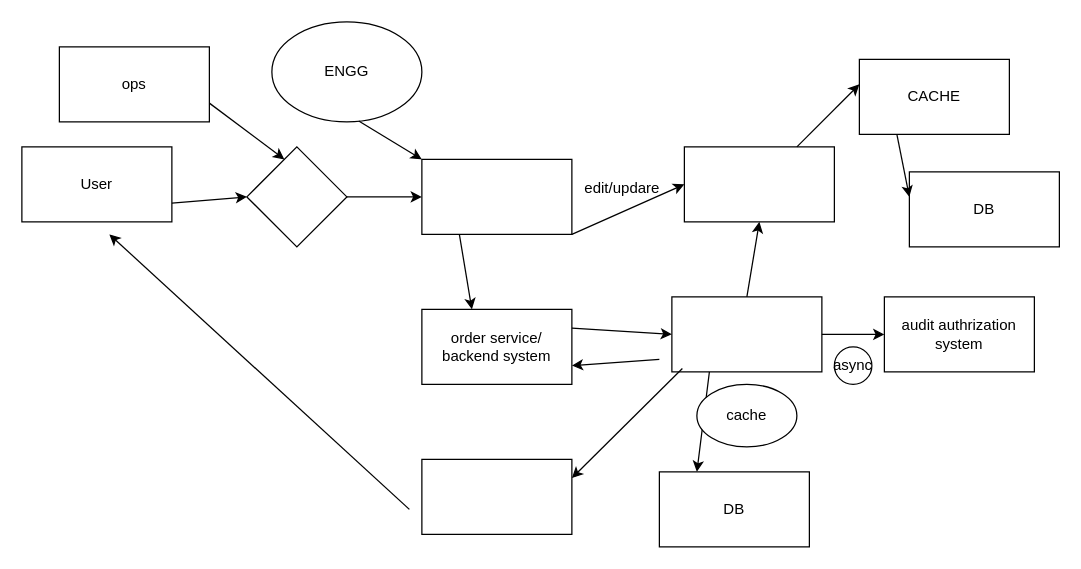
The diagram is 1081 pixels wide and 569 high, and some of its shapes have lost their labels. Here are the shapes that lost their labels. From the top down, the box of each, then its label:
(246, 146, 347, 247): LB
(421, 158, 572, 234): API gateway system
(683, 146, 834, 222): Authconfigration service
(671, 296, 822, 372): API AUTHRZARION system
(421, 458, 572, 534): Notification system
